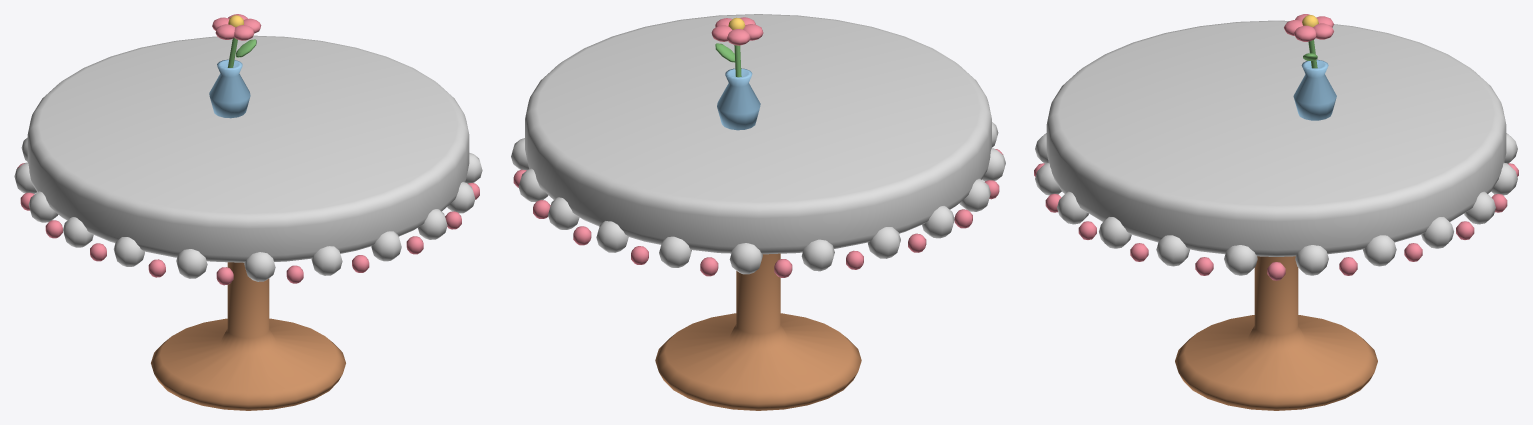
Rendered from table.glb.
3 renders of one model, left to right at view 1: azimuth 30°, elevation 25°; view 2: azimuth 150°, elevation 25°; view 3: azimuth 270°, elevation 25°, orthographic. The views are drawn at different scales.
Parts seen in each view (by area): view 1: Table; view 2: Table; view 3: Table.
Part boxes in pixels (x1,y1,x2,y2): Table: [14, 14, 482, 410]; Table: [511, 14, 1005, 410]; Table: [1034, 14, 1518, 410].
Size of the model in its own units: 1 by 0.813 by 1.
